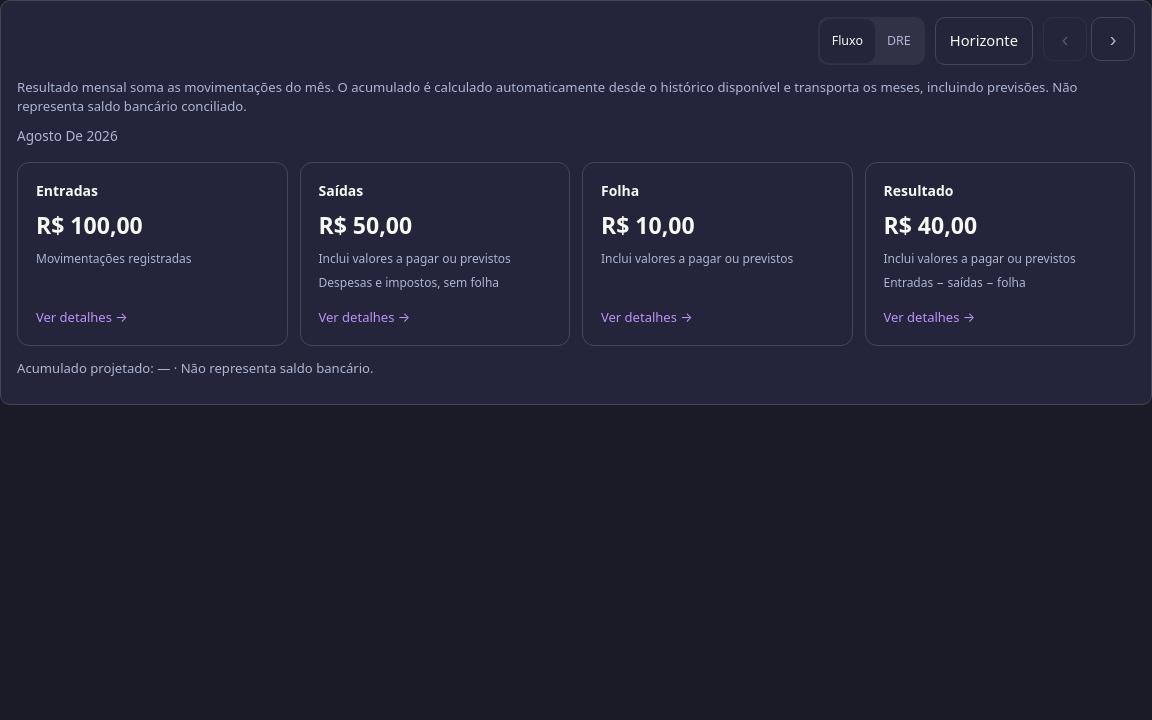
it: abre quatro cards do mês e saídas de todos os dias, incluindo imposto sem dia
Click the button with aria-label "Ver saídas": (435, 254) top-left (300, 162), bottom-right (570, 346)
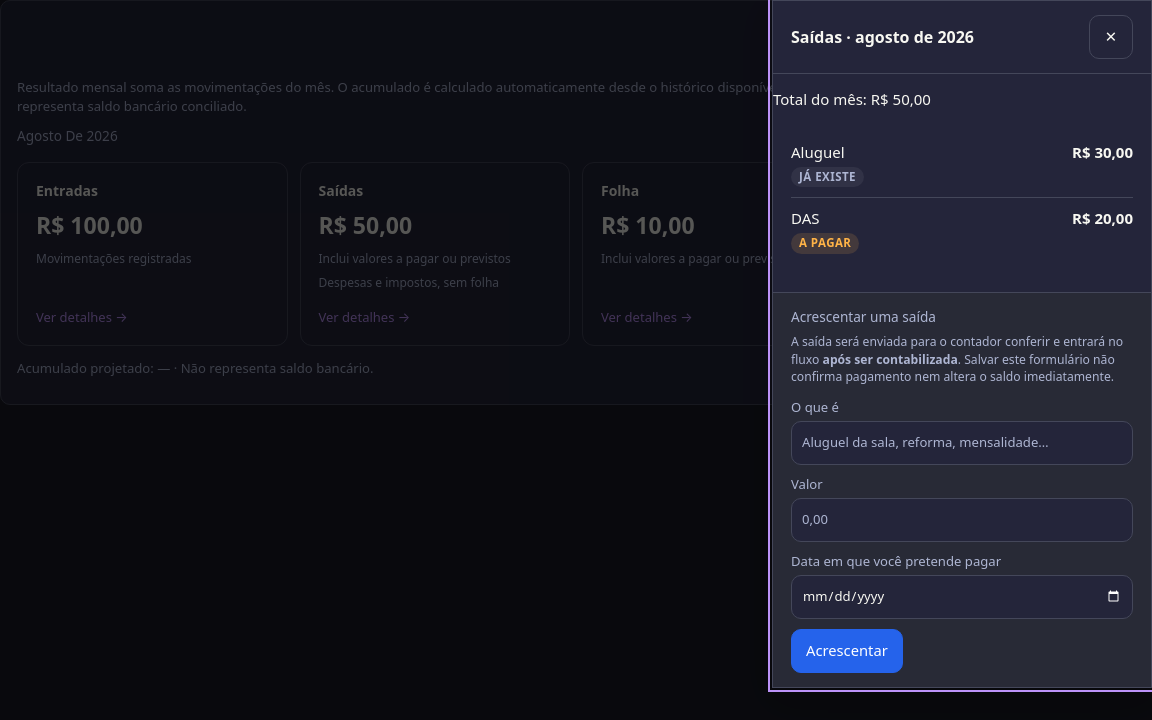
Expected: the dialog shows "Aluguel", top-left (791, 142), bottom-right (845, 162)
Expected: the dialog shows "das", top-left (791, 208), bottom-right (820, 228)
Expected: the dialog shows "50,00", top-left (871, 89), bottom-right (931, 109)
